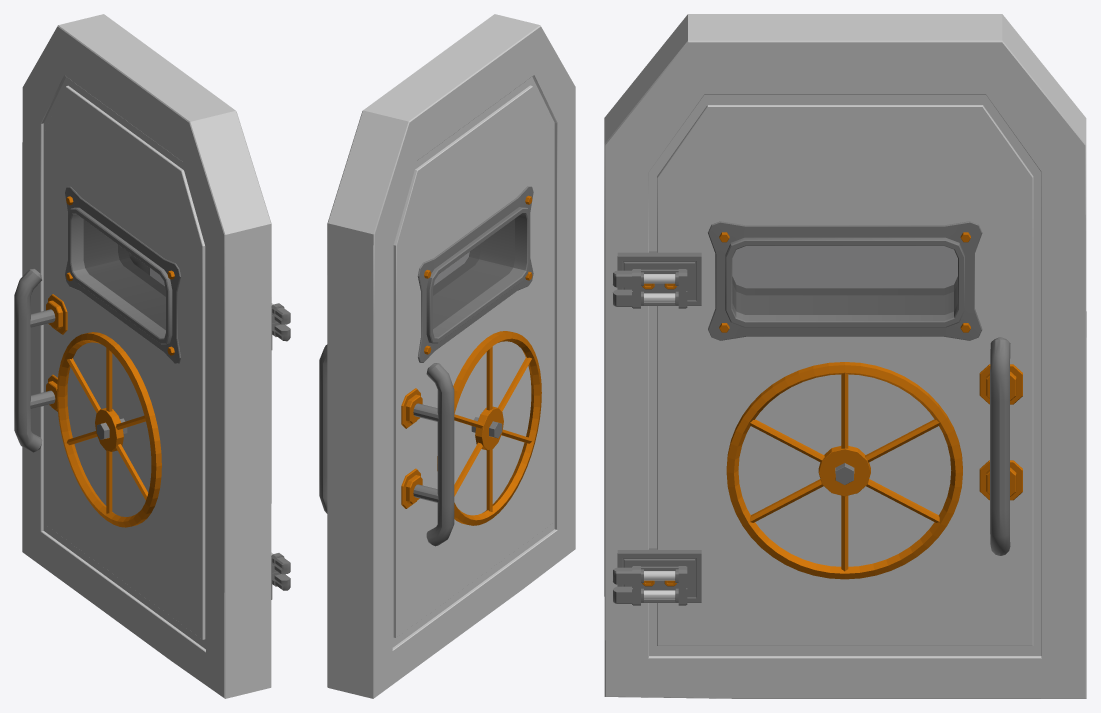
Rendered from Interior_Door.fbx.
3 views of the same model, side by side, from view 1: azimuth 30°, elevation 25°; view 2: azimuth 150°, elevation 25°; view 3: azimuth 270°, elevation 25° (orthographic). The views are drawn at different scales.
Visible parts, largest first — view 1: Interior Door, Wheel Inside; view 2: Interior Door, Wheel Inside; view 3: Interior Door, Wheel Outside.
Part boxes in pixels (x1,y1,x2,y2): Interior Door: [14, 14, 290, 698]; Wheel Inside: [57, 332, 161, 527]; Interior Door: [319, 14, 575, 698]; Wheel Inside: [437, 331, 541, 525]; Interior Door: [604, 14, 1086, 698]; Wheel Outside: [726, 362, 962, 579].
Bounding box in the file's own units: 0.8289 × 2.18 × 3.29.
